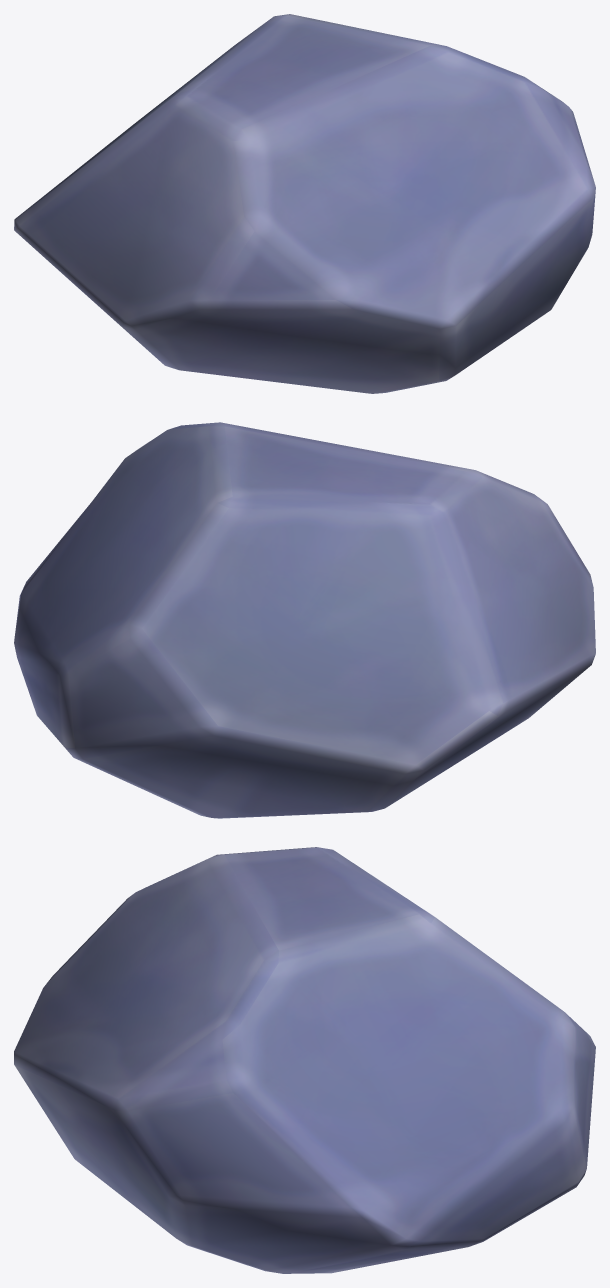
The model's file is rock-grey.glb.
The picture shows the model from 3 angles, top to bottom: view 1: azimuth 30°, elevation 25°; view 2: azimuth 150°, elevation 25°; view 3: azimuth 270°, elevation 25°; orthographic projection. The views are drawn at different scales.
Parts seen in each view (by area): view 1: Sphere; view 2: Sphere; view 3: Sphere.
Boxes of the visible parts, x1,y1,x2,y2 form: Sphere: (14,14,595,393); Sphere: (14,422,595,818); Sphere: (14,847,595,1273).
Size of the model in its own units: 3.08 by 1.75 by 2.97.
Materials: 1 (1 with a texture image).
